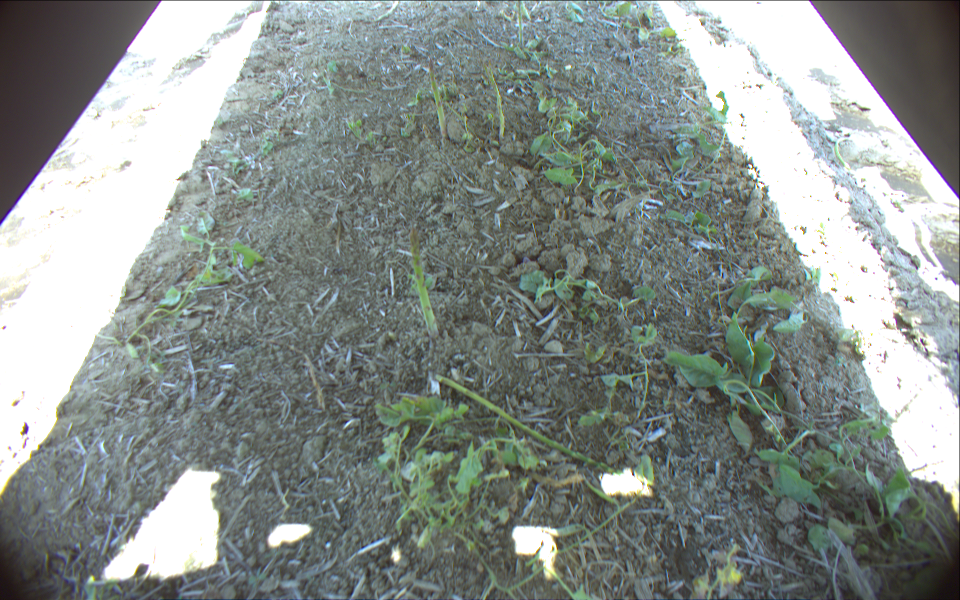aspa: (436, 373, 629, 482), (407, 224, 441, 339), (484, 58, 505, 141), (427, 59, 449, 136), (376, 1, 402, 22), (515, 1, 525, 47)
